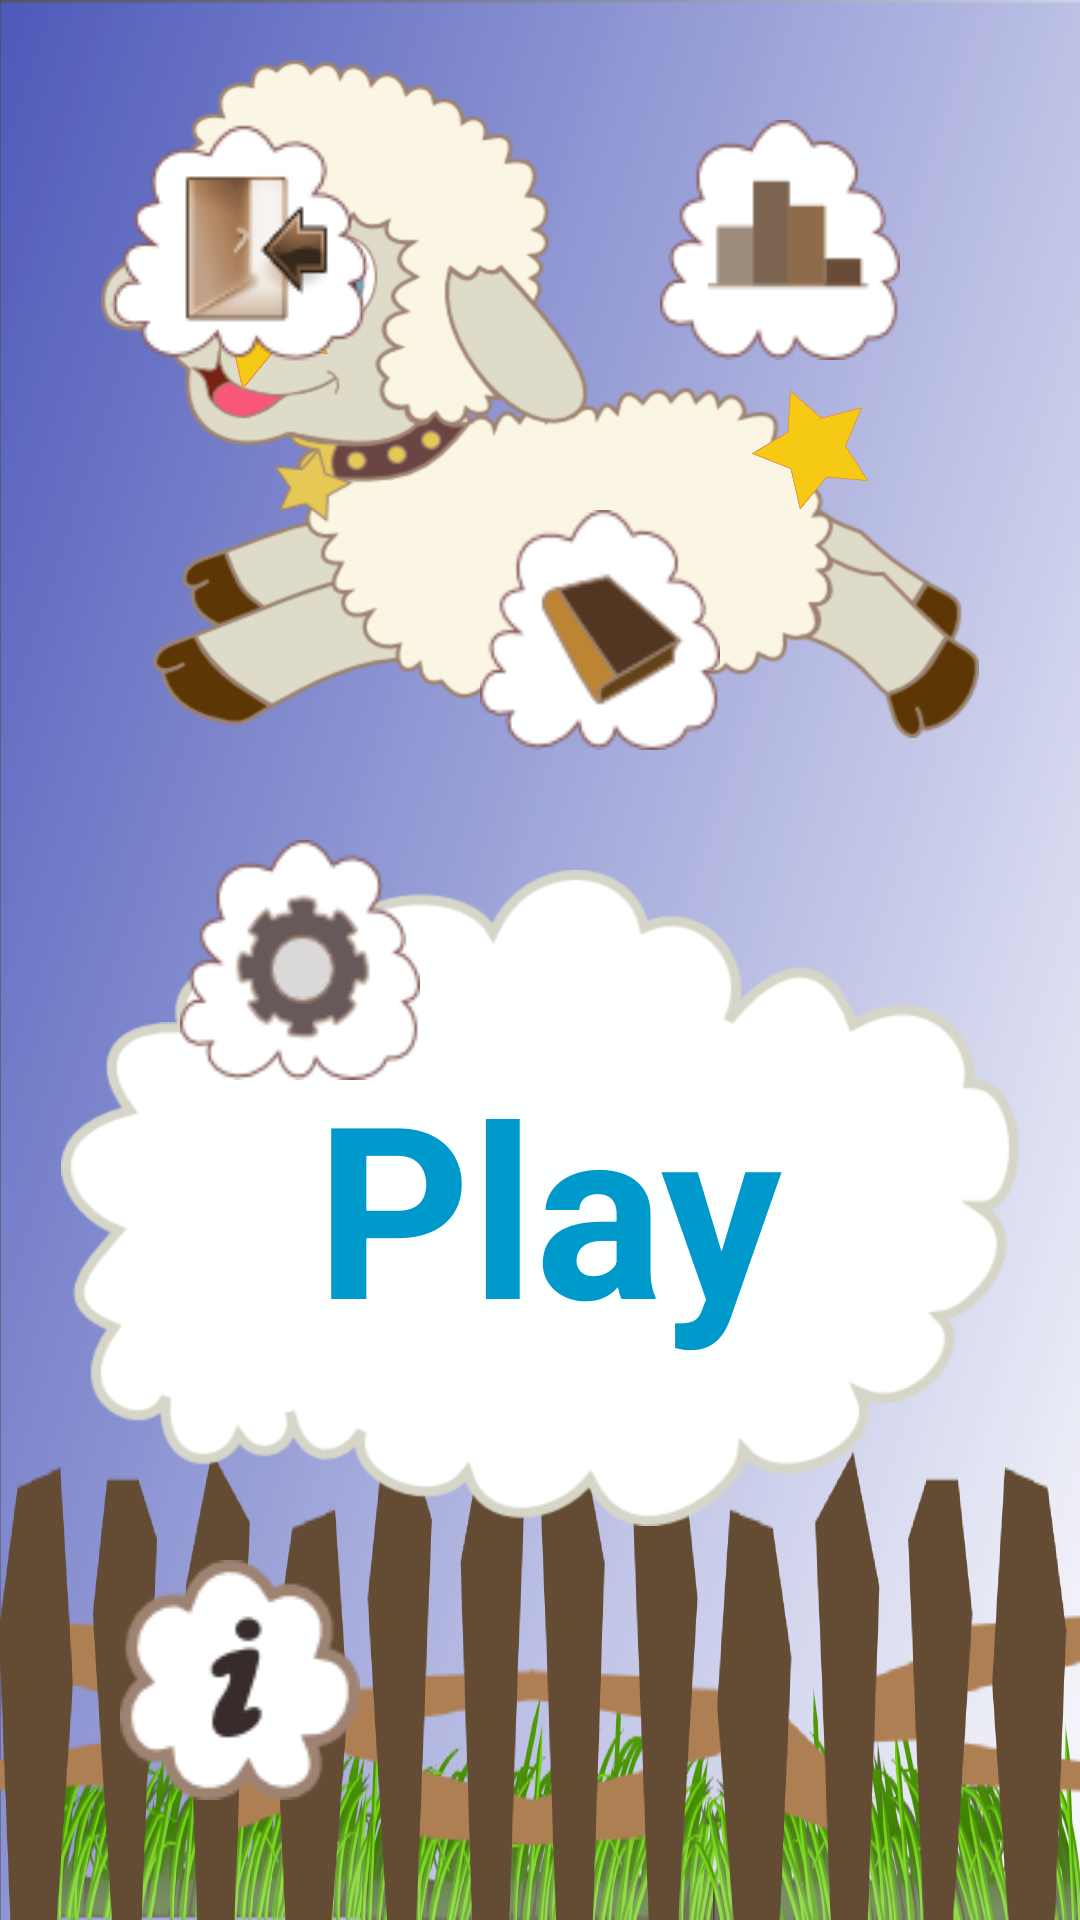

Icon click points for this 1080×1920 phone screenshot, format point (x, y):
about: point (240, 1680)
rules: point (600, 630)
statistics: point (780, 240)
